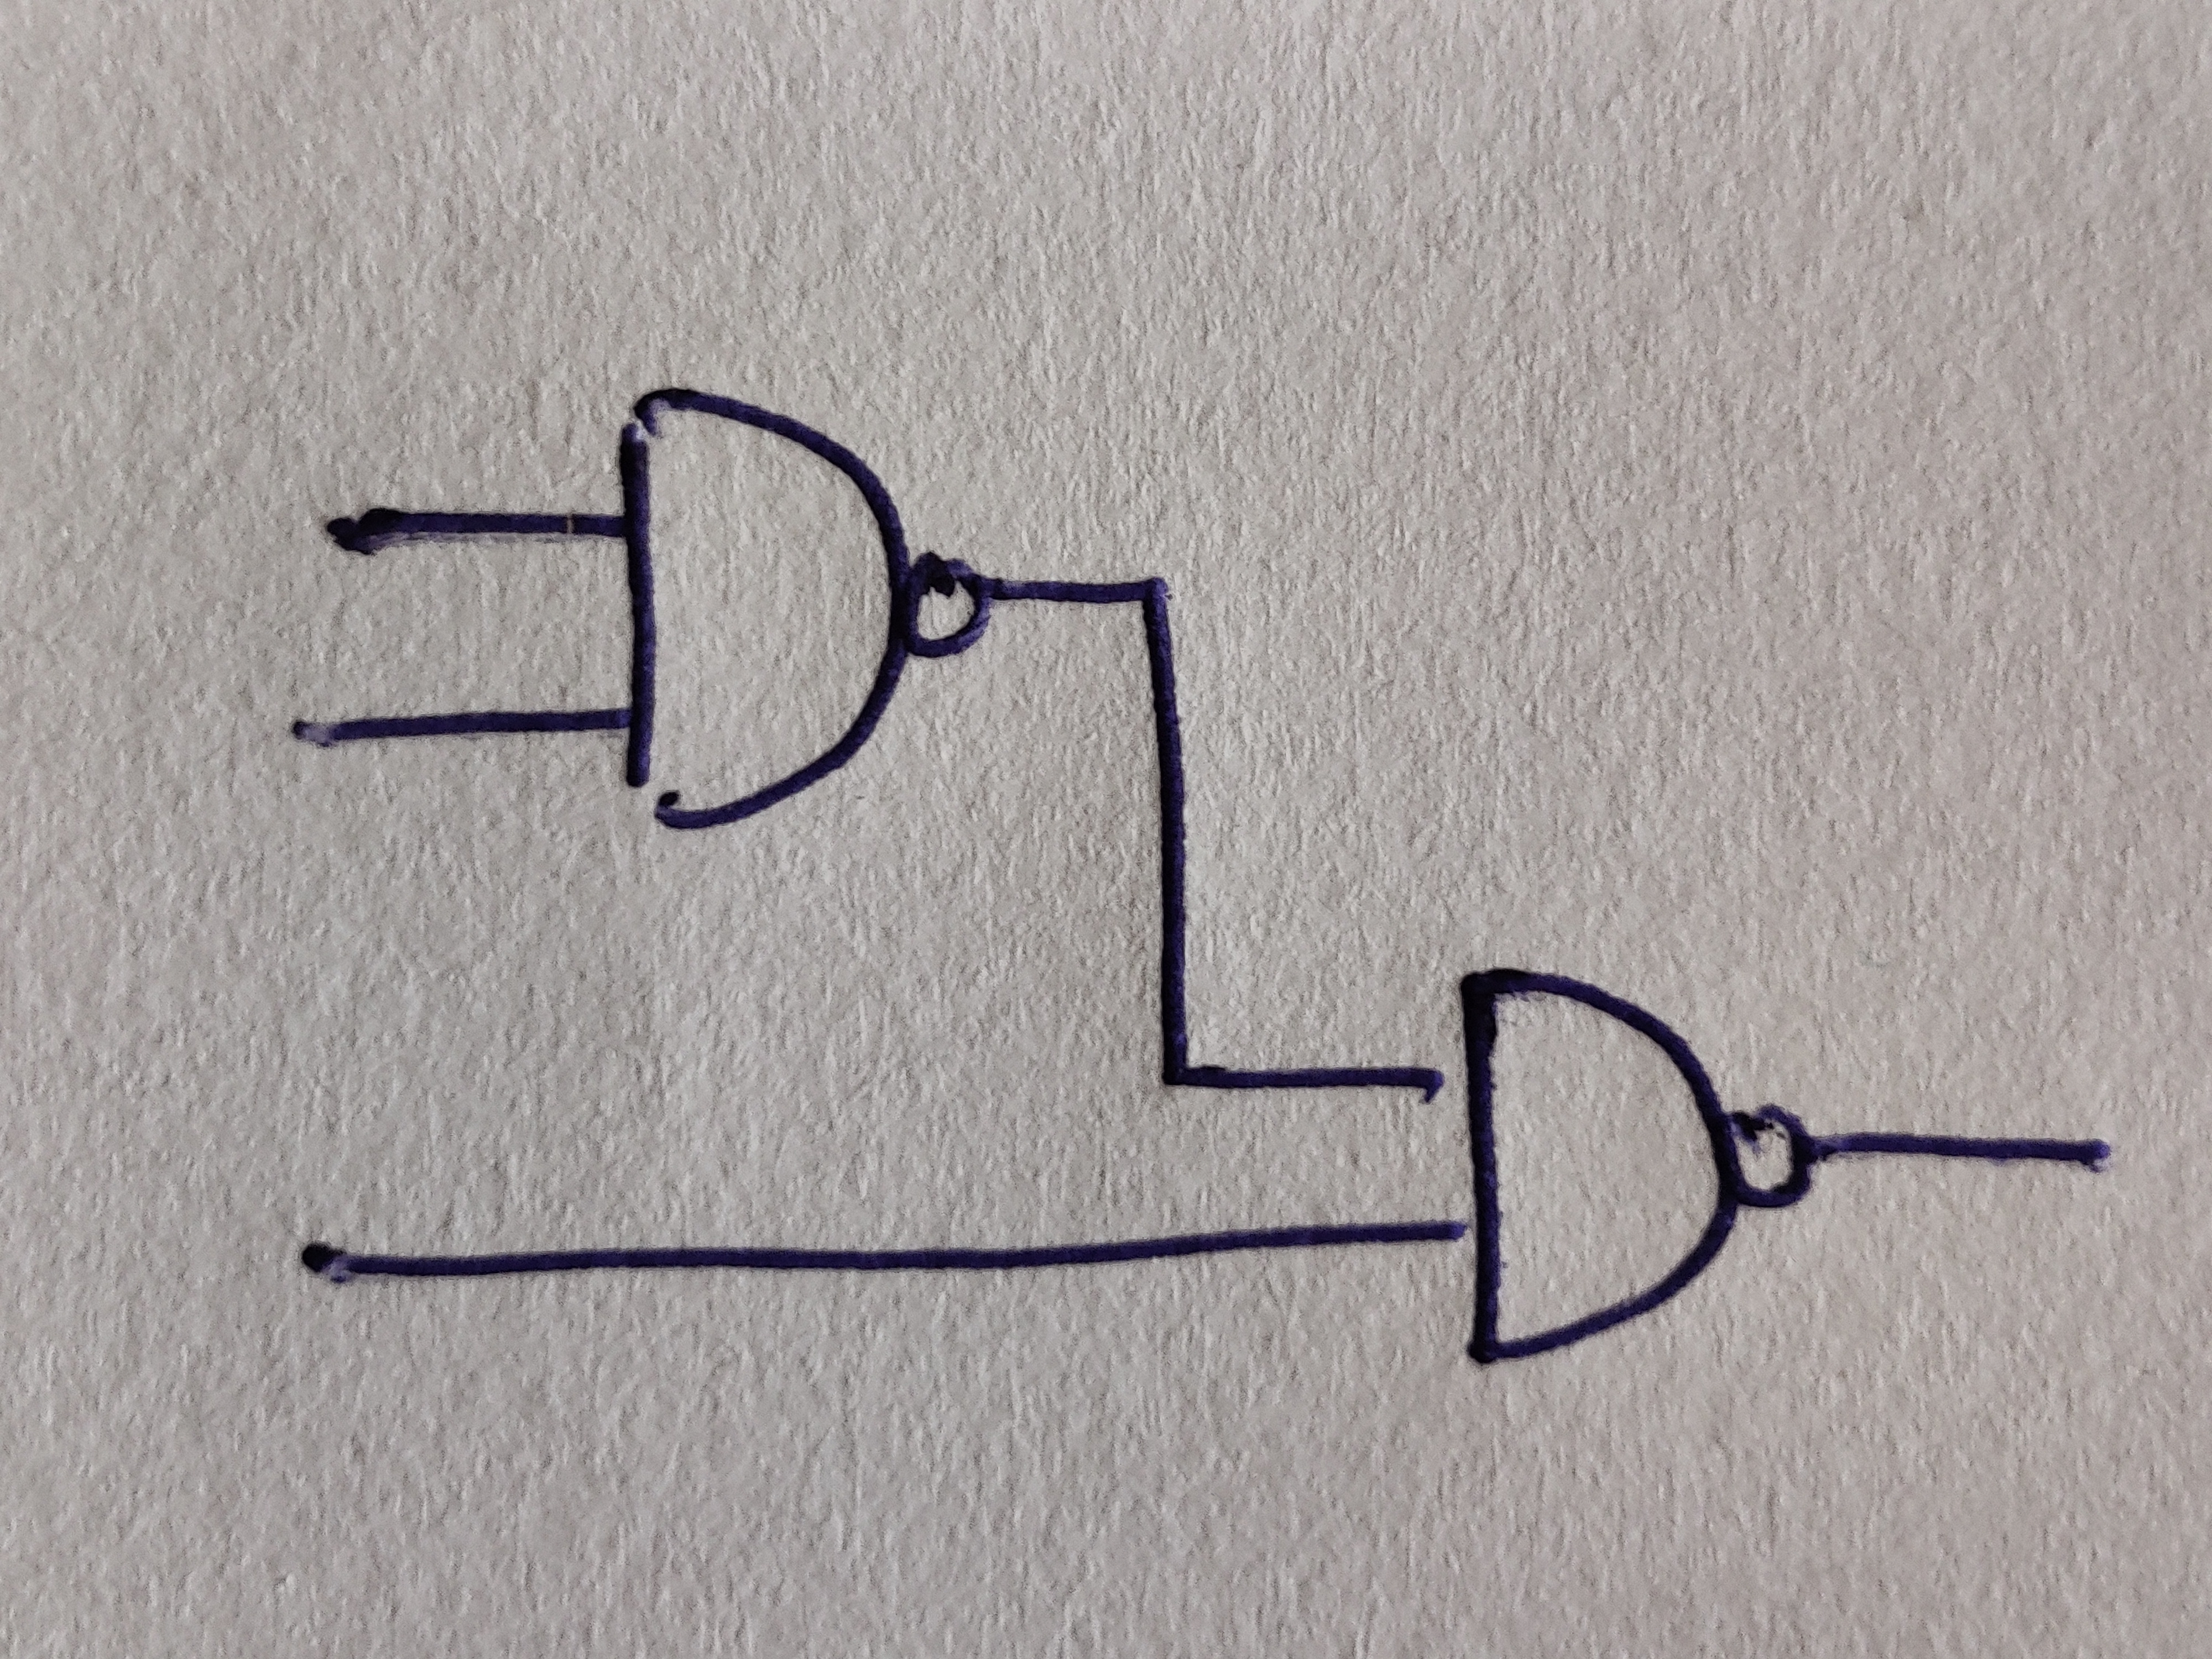and: (618, 389, 907, 831), (1461, 967, 1740, 1363)
not: (904, 552, 991, 659), (1730, 1105, 1810, 1209)
